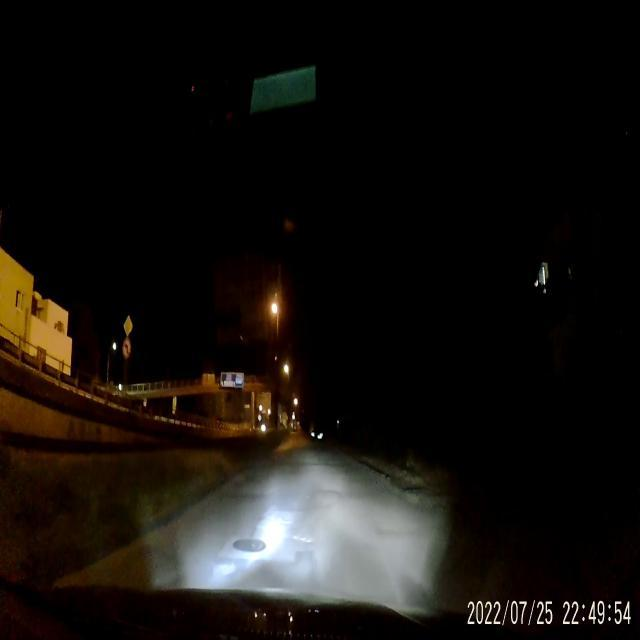Manhole: (230, 534, 268, 554)
